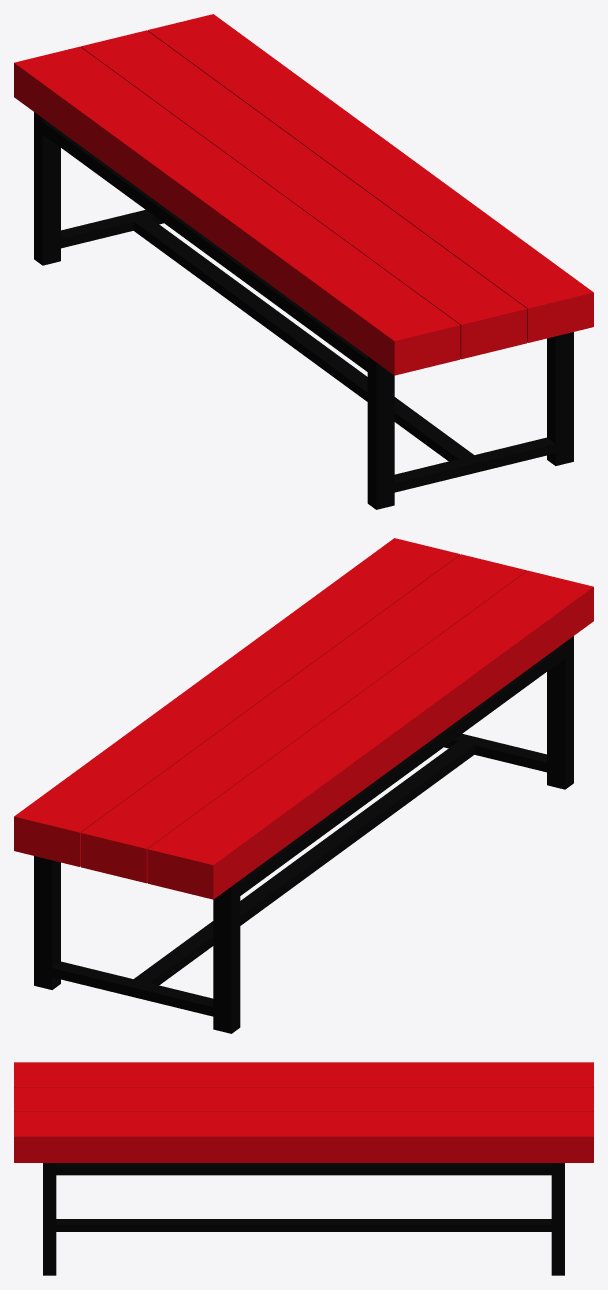
File: bench.fbx
3 views of the same model, one above another, from view 1: azimuth 30°, elevation 25°; view 2: azimuth 150°, elevation 25°; view 3: azimuth 270°, elevation 25° (orthographic). The views are drawn at different scales.
Visible parts, largest first — view 1: wood, steel; view 2: wood, steel; view 3: wood, steel.
Part boxes in pixels (x1,y1,x2,y2): wood: (14,14,593,375); steel: (34,112,573,509); wood: (14,538,593,899); steel: (34,636,573,1033); wood: (14,1062,593,1162); steel: (43,1163,564,1275).
Size of the model in its own units: 60.54 by 53.03 by 200.
